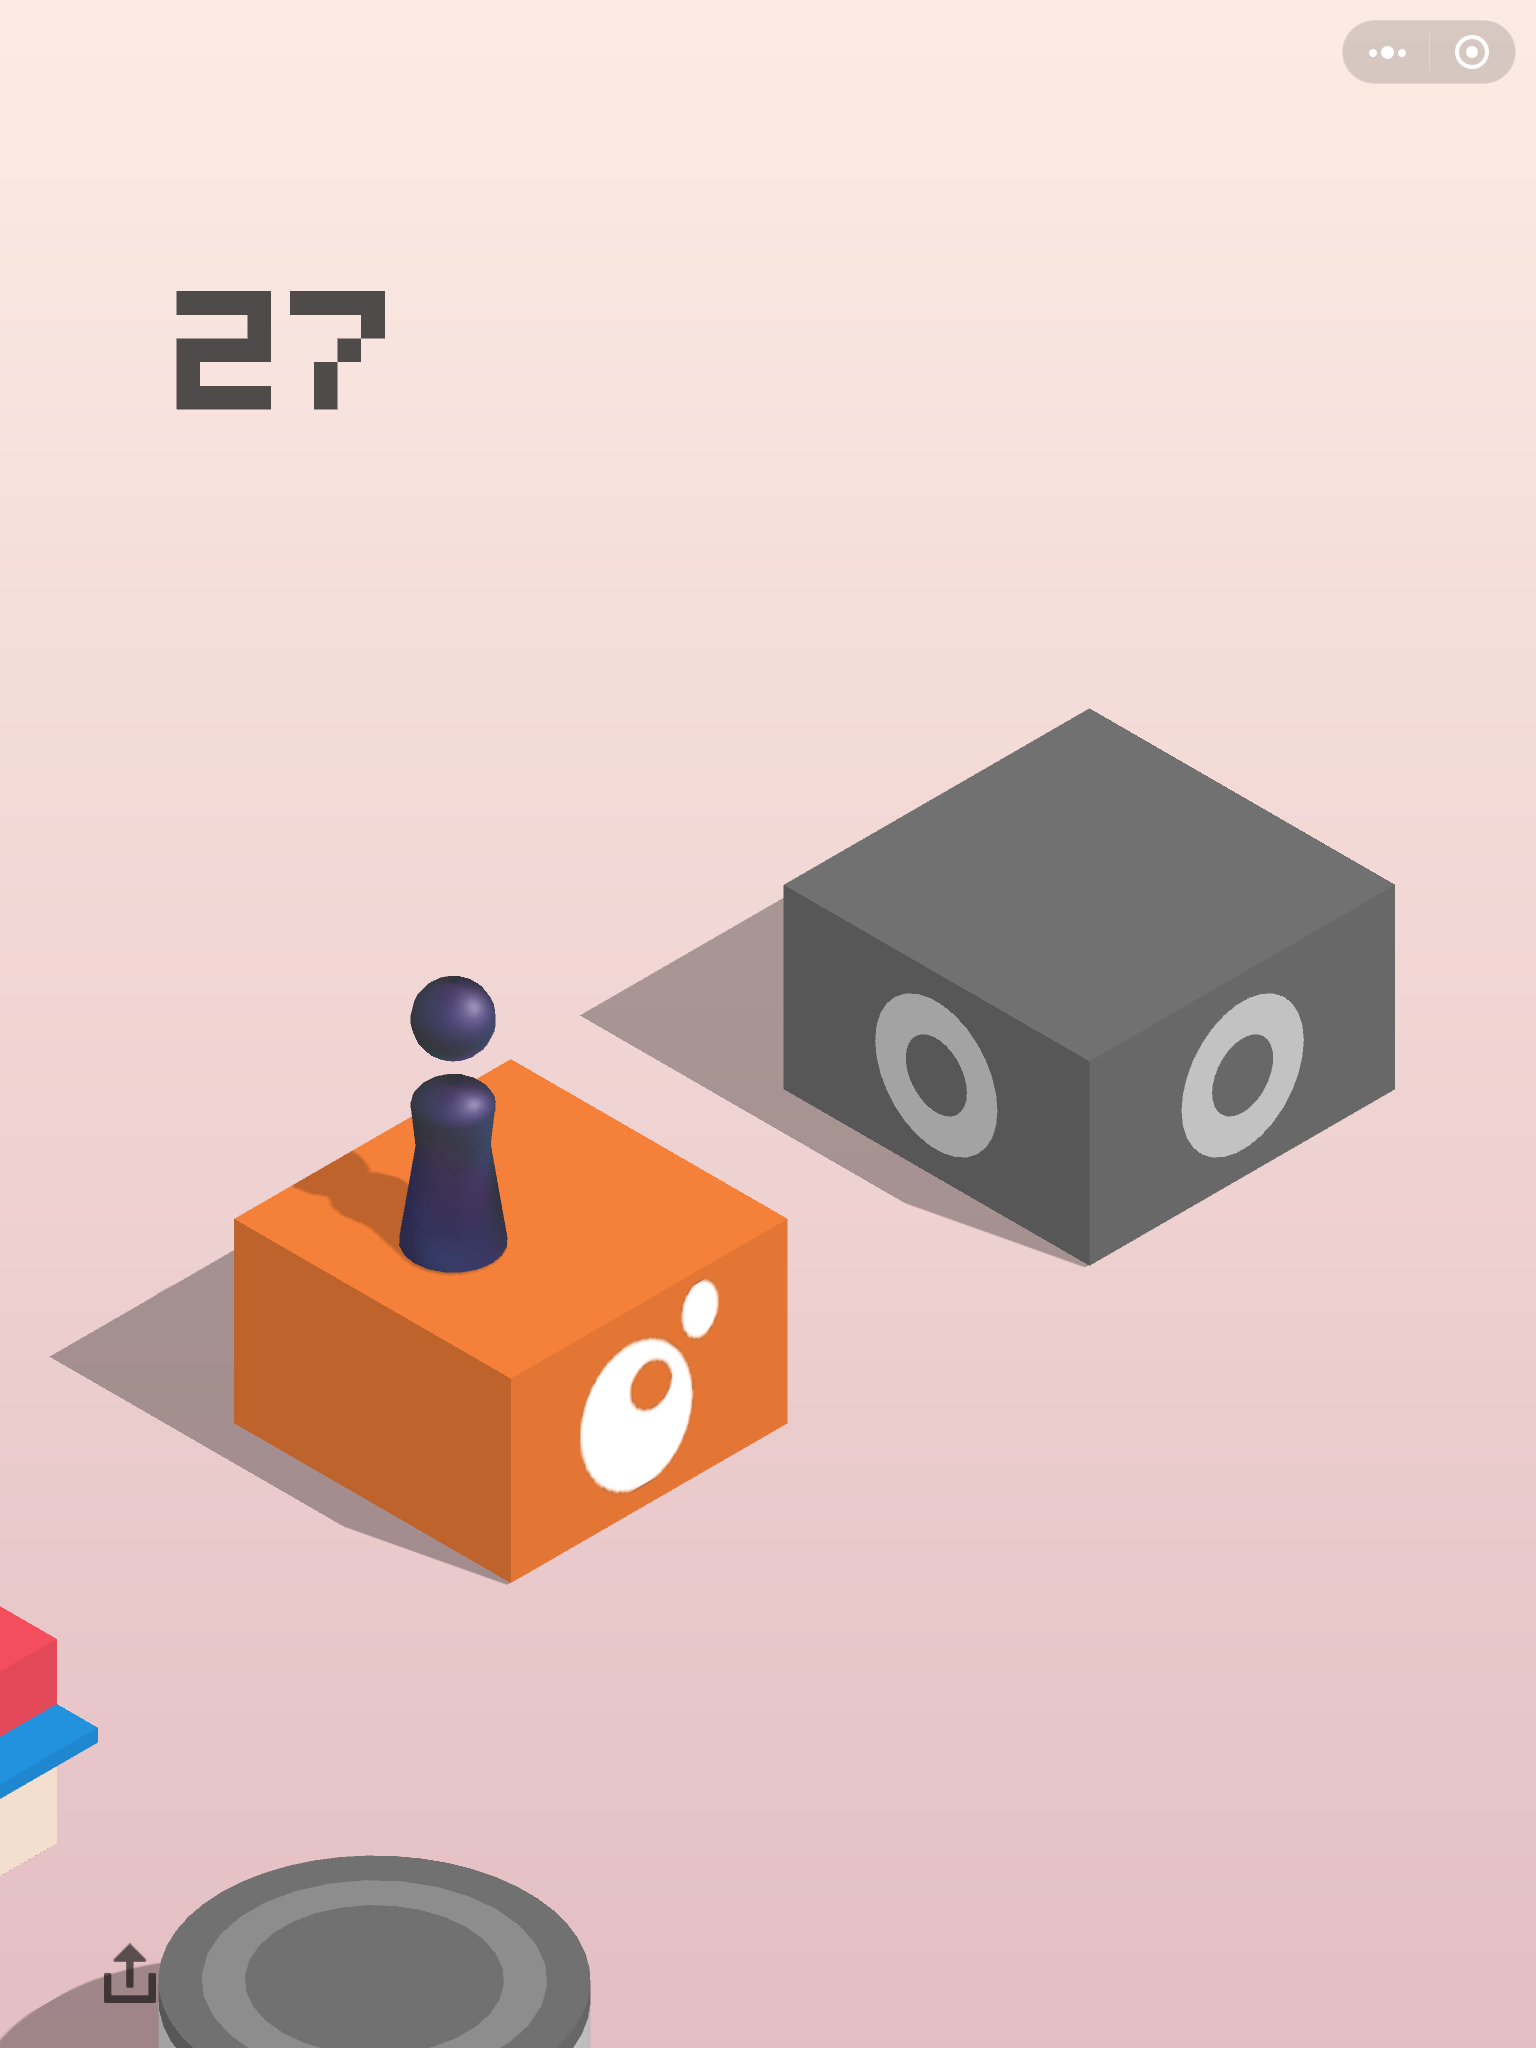c: (147, 1851, 599, 2048)
f: (776, 705, 1397, 1269), (226, 1056, 799, 1588)
r: (371, 968, 537, 1297)
